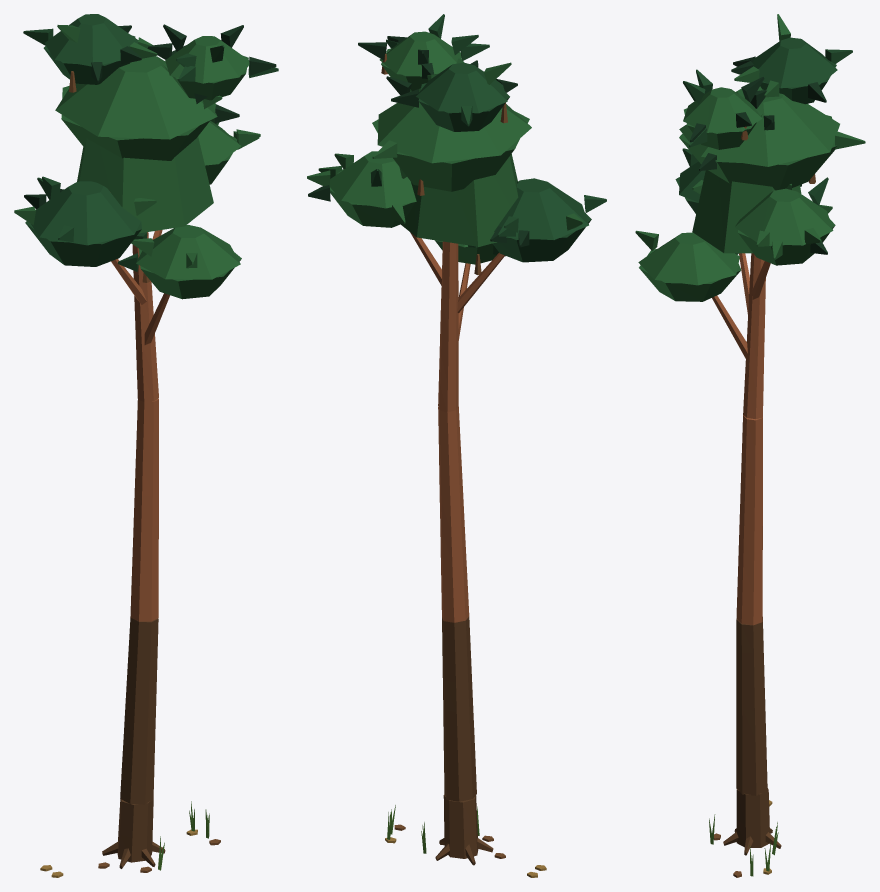
Rendered from tree_pine.obj.
The picture shows the model from 3 angles, left to right: view 1: azimuth 30°, elevation 25°; view 2: azimuth 150°, elevation 25°; view 3: azimuth 270°, elevation 25°; orthographic projection. The views are drawn at different scales.
Parts seen in each view (by area): view 1: Crown, Trunk, Crown.Core, Tuft, Branch, Trunk.Stump; view 2: Crown, Trunk, Crown.Core, Tuft, Branch, Trunk.Stump; view 3: Crown, Trunk, Tuft, Crown.Core, Branch, Trunk.Stump.
Boxes of the visible parts, box(x1,y1,x2,y2) form: Crown: box(25, 14, 249, 299); Trunk: box(118, 232, 158, 837); Crown.Core: box(77, 137, 213, 233); Tuft: box(14, 24, 278, 271); Branch: box(111, 230, 169, 344); Trunk.Stump: box(117, 829, 152, 862); Crown: box(329, 31, 591, 264); Trunk: box(438, 241, 477, 834); Crown.Core: box(401, 154, 518, 246); Tuft: box(307, 14, 606, 256); Branch: box(410, 232, 504, 340); Trunk.Stump: box(444, 825, 478, 858); Crown: box(638, 37, 839, 301); Trunk: box(736, 253, 769, 824); Tuft: box(635, 14, 865, 259); Crown.Core: box(692, 170, 801, 253); Branch: box(712, 253, 770, 358); Trunk.Stump: box(736, 820, 769, 847).
Size of the model in its own units: 5.5 by 17.04 by 4.44.
